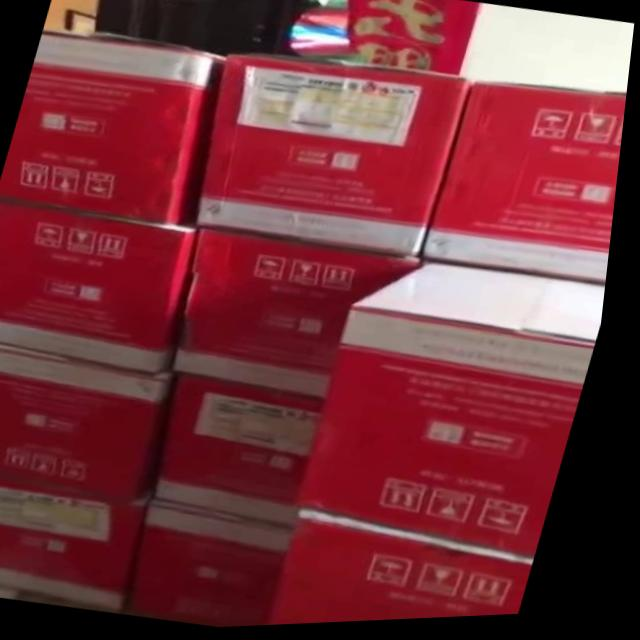box: (303, 265, 613, 570), (197, 54, 475, 260), (1, 30, 228, 225), (181, 228, 426, 400), (427, 85, 629, 288), (0, 198, 204, 377), (0, 341, 183, 504), (280, 520, 544, 628), (163, 374, 334, 531), (0, 473, 163, 611), (142, 500, 306, 629)
